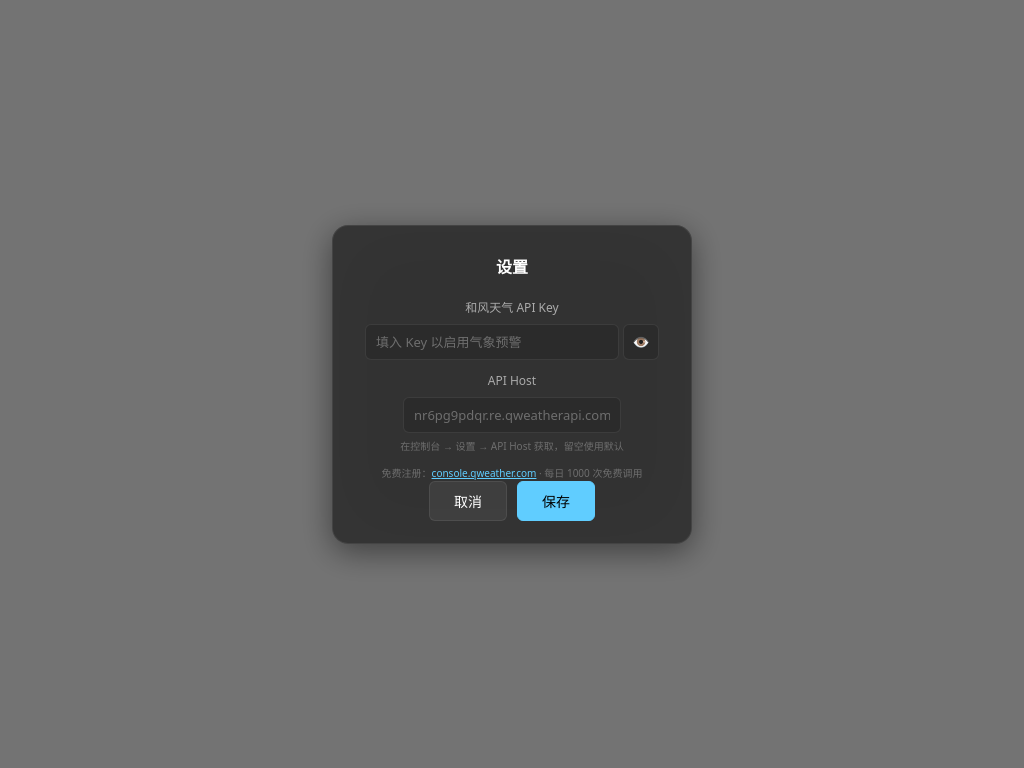
Test: SettingsDialog › 点击显示按钮后切换为文本模式
Click the button "👁️": (641, 342) [623,324,659,360]
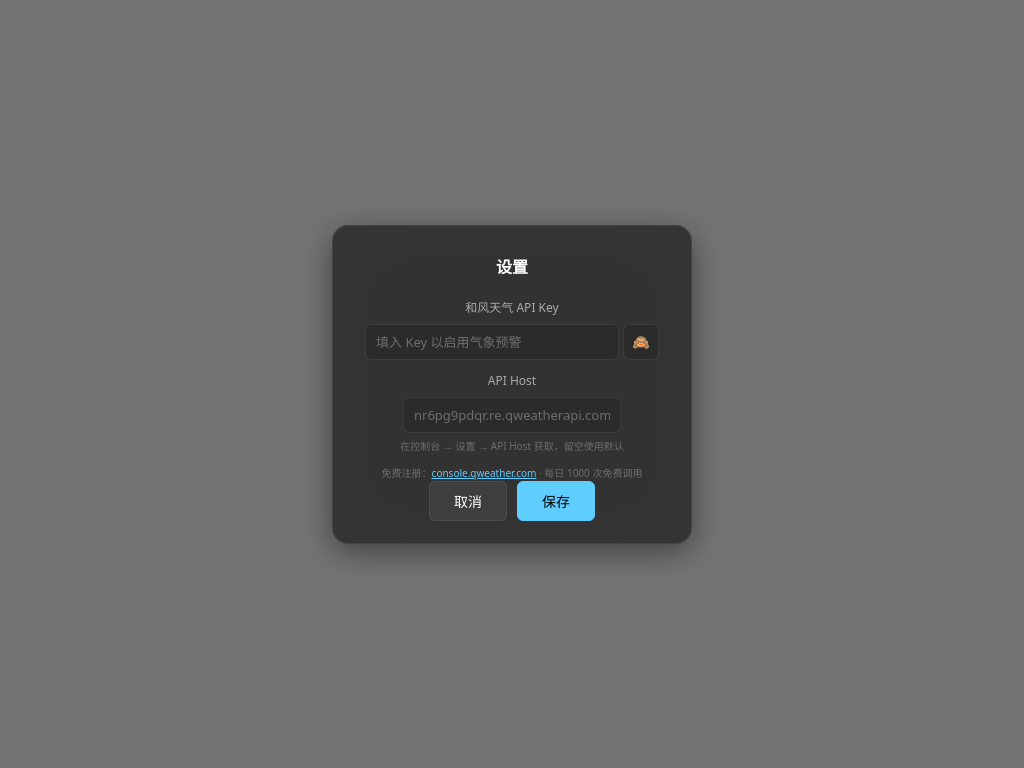
Expected: the button "🙈" is shown, [623,324,659,360]
